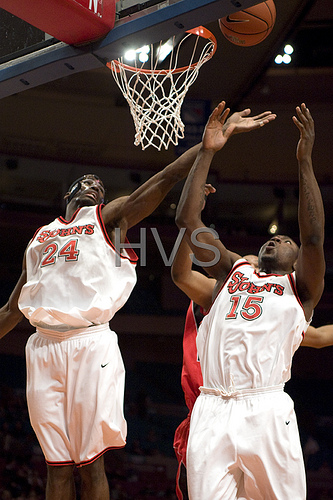basketball: (218, 1, 276, 47)
